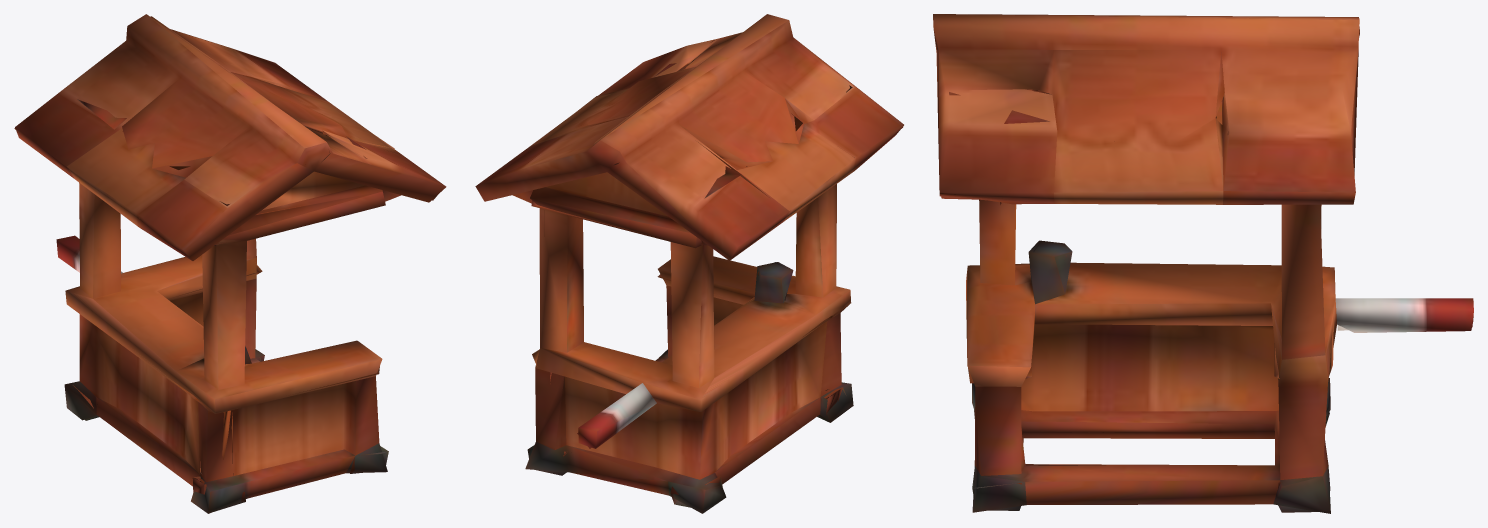
Rendered from lg-toll-booth.glb.
3 renders of one model, left to right at view 1: azimuth 30°, elevation 25°; view 2: azimuth 150°, elevation 25°; view 3: azimuth 270°, elevation 25°, orthographic. The views are drawn at different scales.
Visible parts, largest first — view 1: geometry_0; view 2: geometry_0; view 3: geometry_0.
Boxes of the visible parts, <box> form: geometry_0: <box>14,14,446,513</box>; geometry_0: <box>475,14,903,513</box>; geometry_0: <box>933,14,1473,513</box>.
Size of the model in its own units: 0.6879 by 0.906 by 1.
Materials: 1 (1 with a texture image).
